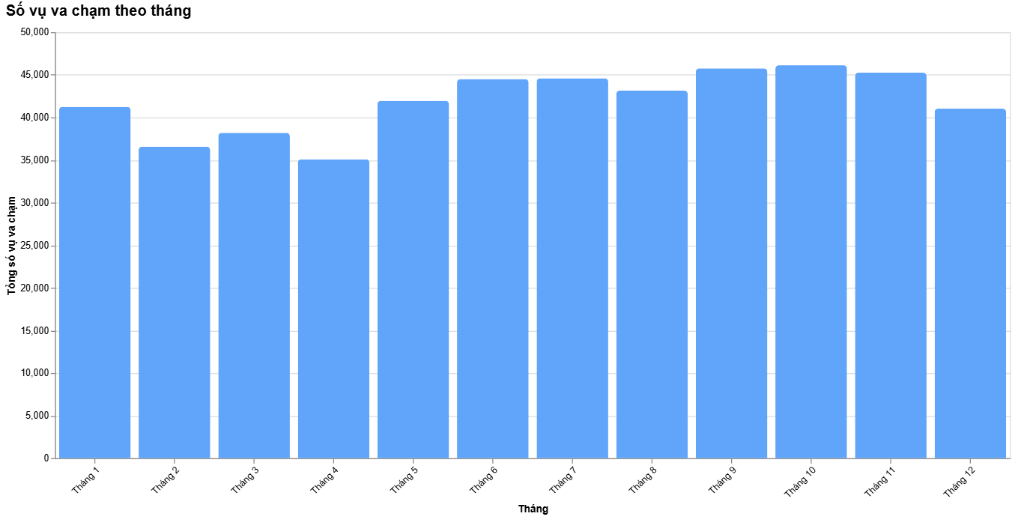

The dashboard page shown, as its layout file describes it:
{"tool":"powerbi","page":{"name":"Page 1","canvas":[1280,720],"ordinal":0},"visuals":[{"type":"clusteredColumnChart","fields":{"Y":["financials.Total Sales"],"Category":["financials.Date.Variation.Date Hierarchy.Month"]},"box":[153.7,89.2,937.2,540.7],"z":0}]}

Visuals, with their boxes on the page's 1280x720 design canvas (x1, y1, x2, y2). These are canvas units, not pixel positions in the 1024x519 screenshot, which may show the page scaled, cropped or inside an application window:
clusteredColumnChart - financials.Total Sales x financials.Date.Variation.Date Hierarchy.Month: 154:89:1091:630
